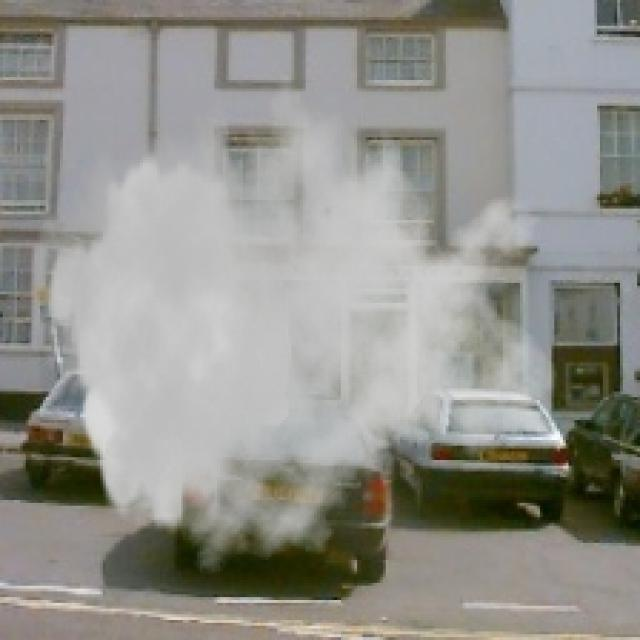Smoke: (28, 51, 560, 583)
